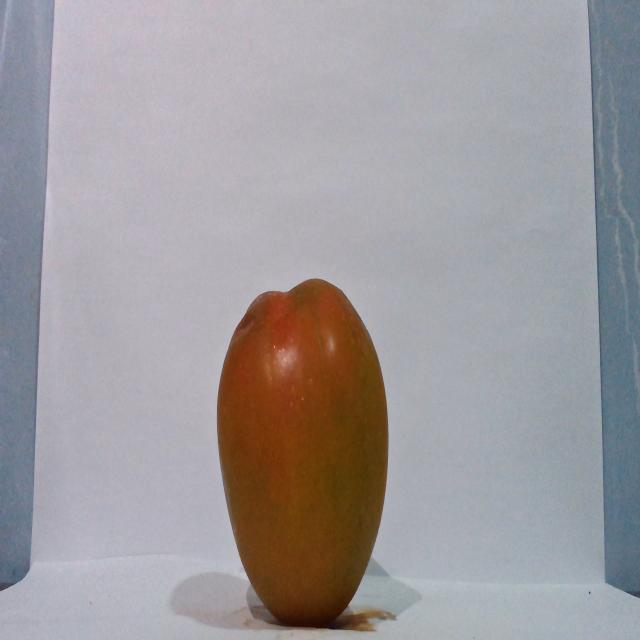Red: (214, 276, 390, 626)
